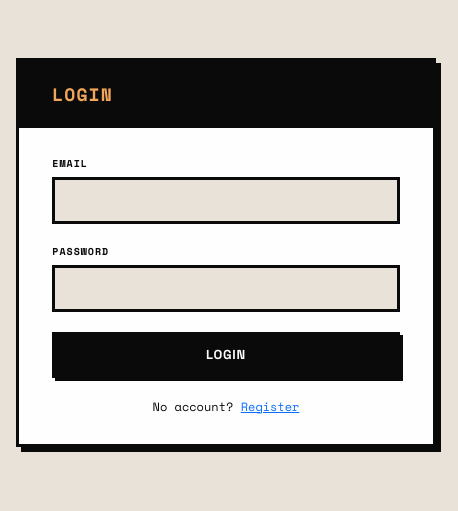
Test case: Login page › shows the server error message on failure
In the field labelled "Email": (226, 201) [52,177,400,224], type "bad@example.com"
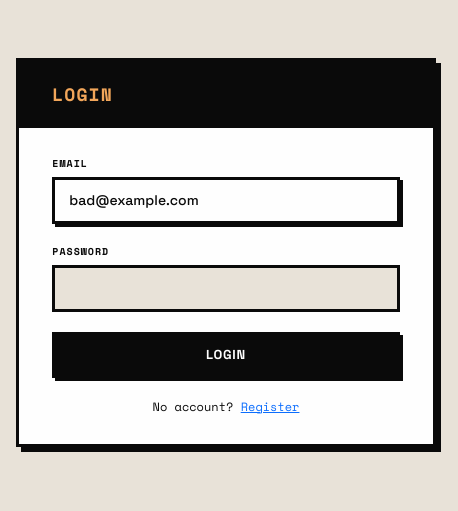
In the password field labelled "Password": (226, 289) [52,265,400,312], type "wrongpass"
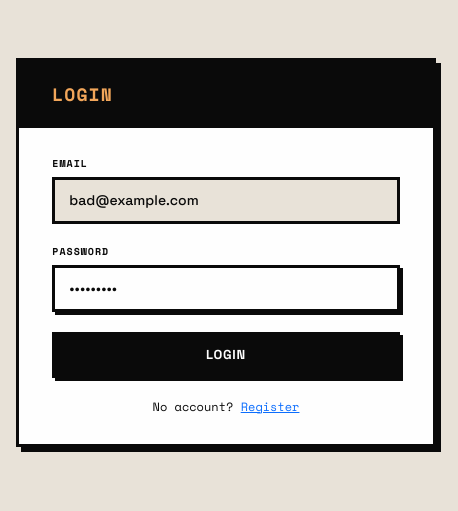
Click the button "Login": (226, 355) [52,332,400,378]
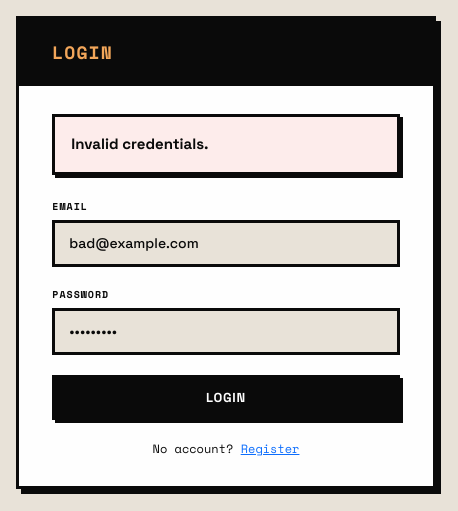
Check: the text "Invalid credentials." is shown, box [52,114,400,174]
